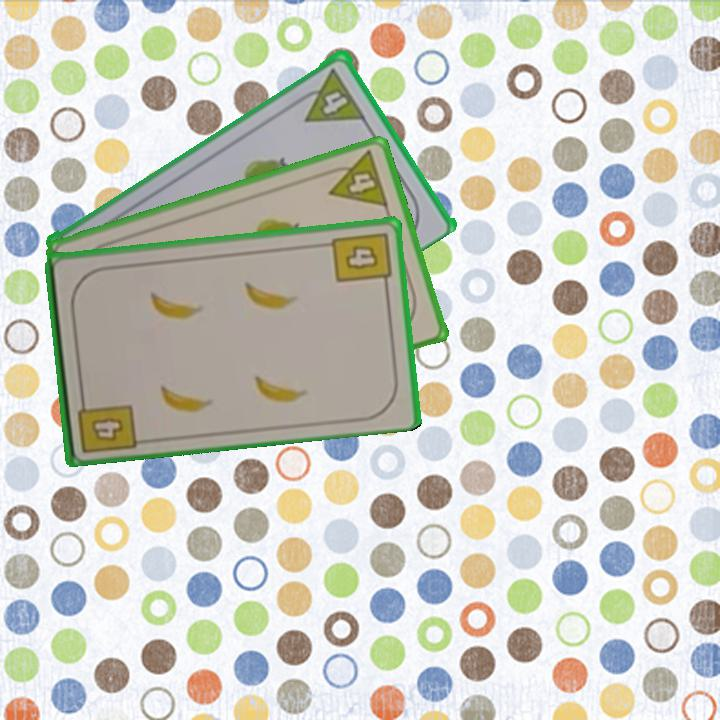4b: (73, 390, 138, 456), (328, 228, 394, 291)
4p: (319, 147, 391, 210), (304, 83, 364, 125)
